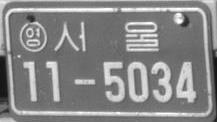-: (73, 76, 97, 88)
0: (127, 61, 149, 103)
1: (42, 60, 66, 102), (20, 60, 43, 102)
3: (150, 60, 173, 103)
4: (174, 60, 197, 104)
5: (102, 60, 127, 103)
서울_D: (53, 20, 159, 52)
영: (19, 21, 47, 52)
